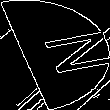N_W: (9, 29, 101, 81)
